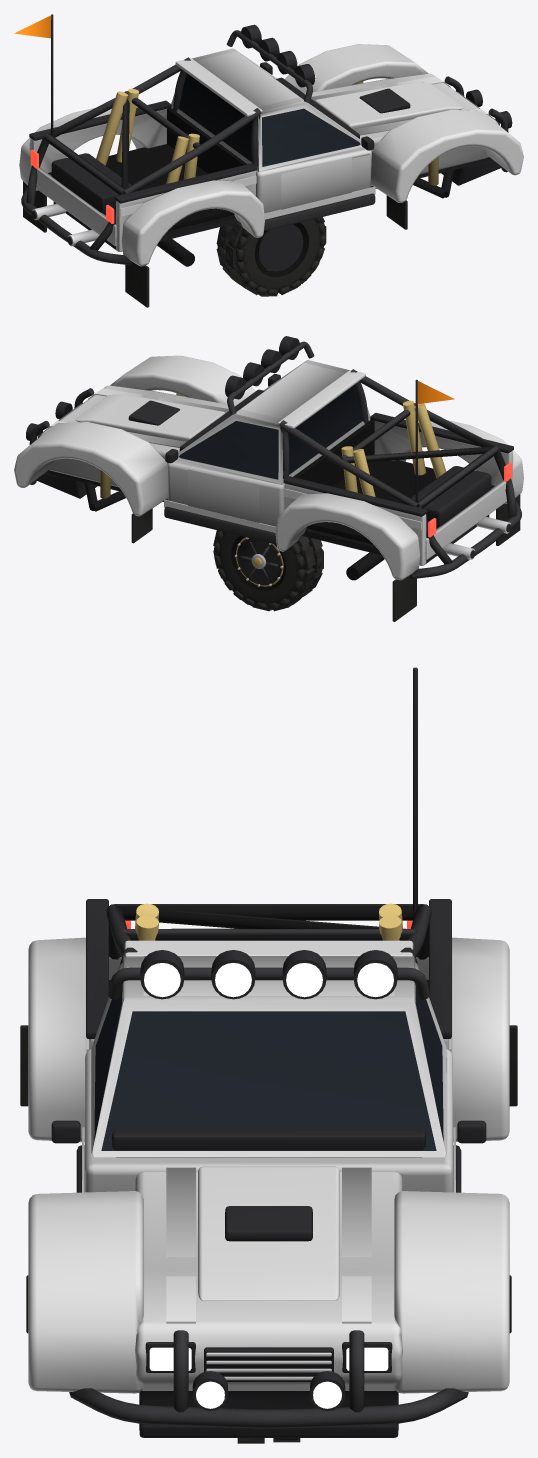
The model's file is truck.glb.
3 renders of one model, top to bottom at view 1: azimuth 30°, elevation 25°; view 2: azimuth 150°, elevation 25°; view 3: azimuth 270°, elevation 25°, orthographic. The views are drawn at different scales.
Visible parts, largest first — view 1: Body, Wheel, WheelLOD, Whip; view 2: Body, Wheel, WheelLOD, Whip; view 3: Body, Whip.
Part boxes in pixels (box(x1,y1,x2,y2)): Body: box(19, 24, 523, 307); Wheel: box(217, 217, 325, 295); WheelLOD: box(216, 217, 326, 296); Whip: box(14, 14, 53, 135); Body: box(14, 336, 523, 621); Wheel: box(214, 530, 323, 610); WheelLOD: box(213, 530, 323, 611); Whip: box(415, 379, 454, 501); Body: box(20, 899, 517, 1437); Whip: box(413, 667, 417, 914).
Size of the model in its own units: 4.89 by 3.09 by 2.38.
